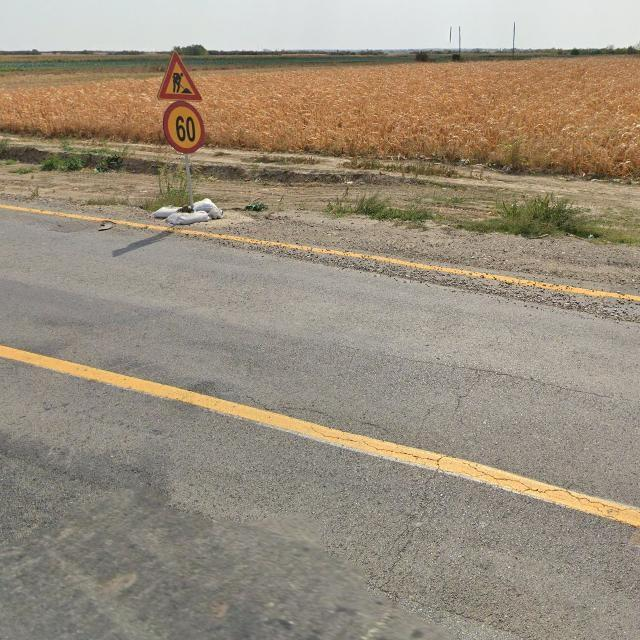forb_speed_over_60: (163, 101, 206, 154)
